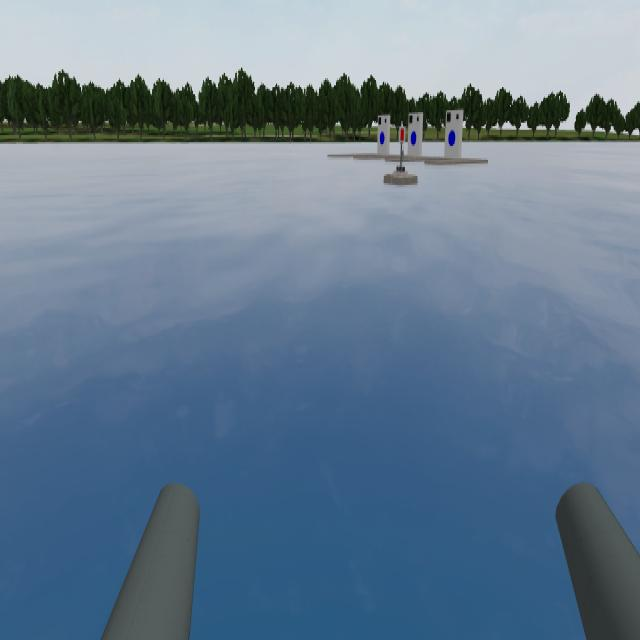red_pole: (394, 124, 413, 148)
